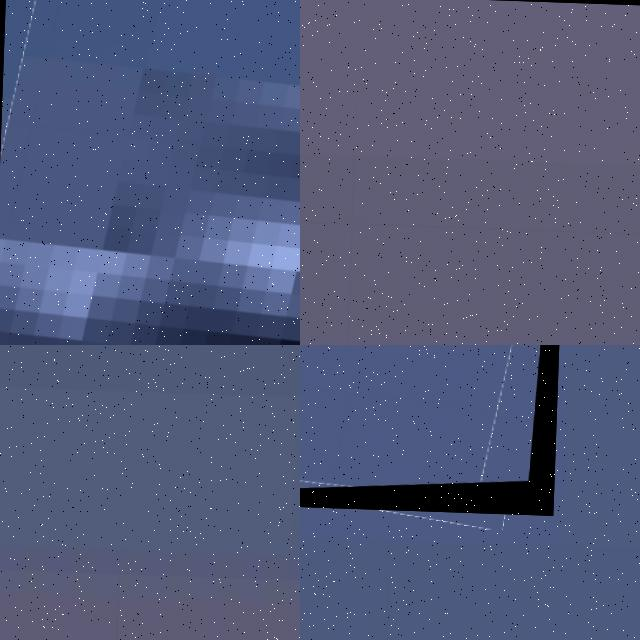drone: (0, 0, 300, 345), (300, 345, 570, 515)
